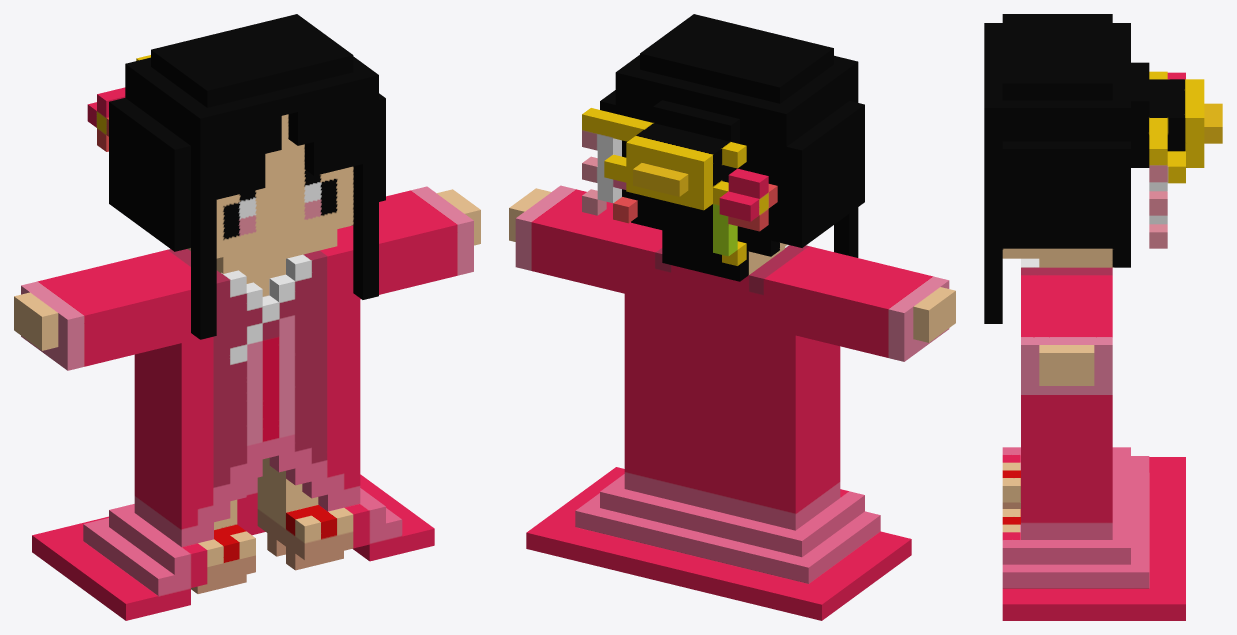
The model's file is atsuhime.glb.
3 renders of one model, left to right at view 1: azimuth 30°, elevation 25°; view 2: azimuth 150°, elevation 25°; view 3: azimuth 270°, elevation 25°, orthographic. The views are drawn at different scales.
Parts seen in each view (by area): view 1: atsuhime-Spine, atsuhime-Head, atsuhime-RightArm, atsuhime-LeftArm, atsuhime-LeftLeg, atsuhime-RightLeg; view 2: atsuhime-Spine, atsuhime-Head, atsuhime-RightArm, atsuhime-LeftArm; view 3: atsuhime-Head, atsuhime-Spine, atsuhime-LeftArm, atsuhime-RightLeg, atsuhime-LeftLeg.
Part boxes in pixels (x1,y1,x2,y2): atsuhime-Spine: (32, 232, 434, 620); atsuhime-Head: (87, 14, 385, 339); atsuhime-RightArm: (14, 258, 181, 370); atsuhime-LeftArm: (337, 186, 480, 299); atsuhime-LeftLeg: (257, 457, 353, 570); atsuhime-RightLeg: (191, 499, 255, 593); atsuhime-Spine: (526, 227, 911, 620); atsuhime-Head: (582, 14, 864, 281); atsuhime-RightArm: (795, 254, 955, 361); atsuhime-LeftArm: (509, 185, 648, 293); atsuhime-Head: (984, 14, 1222, 323); atsuhime-Spine: (1002, 258, 1185, 620); atsuhime-LeftArm: (1021, 291, 1112, 394); atsuhime-RightLeg: (1002, 462, 1020, 508); atsuhime-LeftLeg: (1002, 509, 1020, 532).
Bounding box in the file's own units: 2.7 × 3 × 1.3.
Materials: 6 (6 with a texture image).
